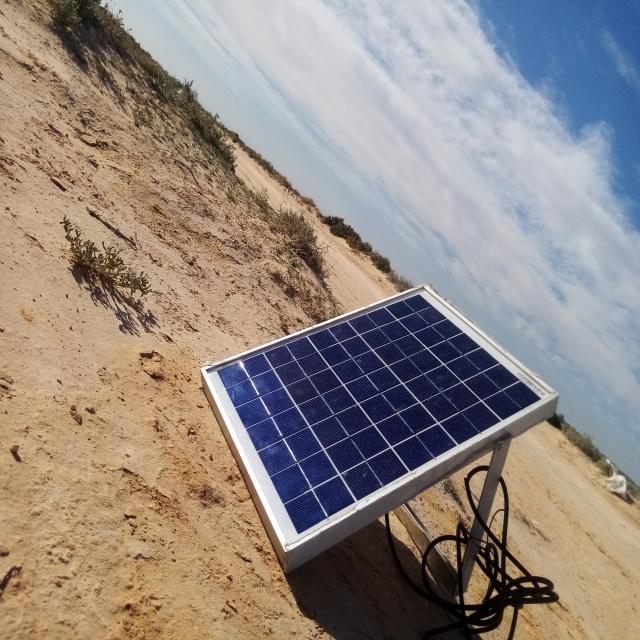no faulty: (202, 286, 558, 551)
